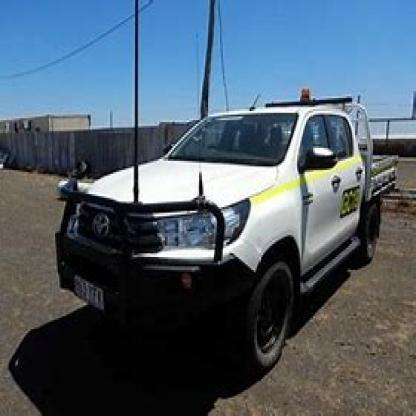hip_of_soil: (3, 4, 416, 416)
